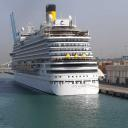cruises: (10, 5, 106, 97)
